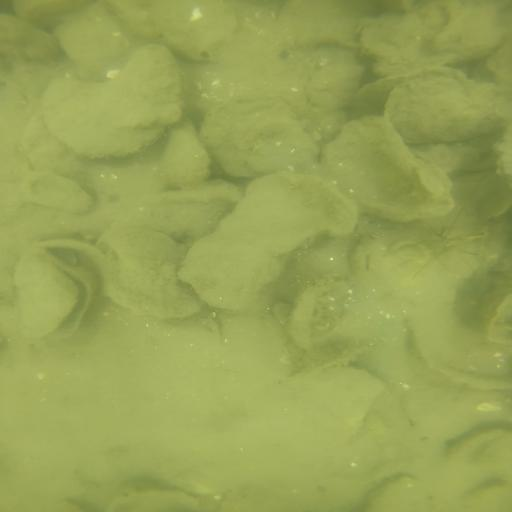Oyster-Closed: (177, 174, 345, 310), (320, 109, 463, 223), (43, 44, 186, 157), (100, 227, 204, 319), (204, 97, 316, 179), (385, 71, 512, 142), (154, 4, 237, 67), (426, 2, 505, 65), (8, 164, 94, 215), (306, 52, 364, 111), (36, 235, 114, 273), (163, 126, 214, 182), (111, 483, 194, 512), (369, 479, 442, 511)
Oyster-Open: (5, 244, 101, 349)
